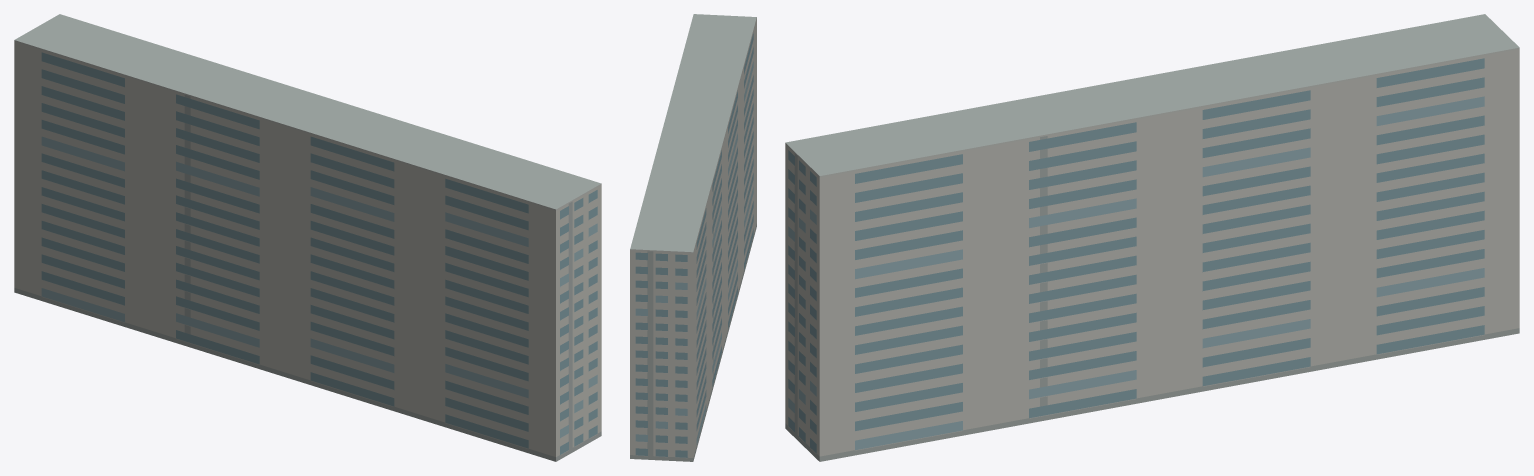
The model's file is residential-9ab44718-9ead-453d-aef7-34628391bfc6.glb.
3 renders of one model, left to right at view 1: azimuth 30°, elevation 25°; view 2: azimuth 150°, elevation 25°; view 3: azimuth 270°, elevation 25°, orthographic. The views are drawn at different scales.
Visible parts, largest first — view 1: residential-9ab44718-9ead-453d-aef7-34628391bfc6.tmp; view 2: residential-9ab44718-9ead-453d-aef7-34628391bfc6.tmp; view 3: residential-9ab44718-9ead-453d-aef7-34628391bfc6.tmp.
Boxes of the visible parts, left/top/right/bottom form: residential-9ab44718-9ead-453d-aef7-34628391bfc6.tmp: left=14, top=14, right=601, bottom=461; residential-9ab44718-9ead-453d-aef7-34628391bfc6.tmp: left=630, top=14, right=756, bottom=461; residential-9ab44718-9ead-453d-aef7-34628391bfc6.tmp: left=785, top=14, right=1519, bottom=461.
Size of the model in its own units: 55.68 by 45.75 by 107.
